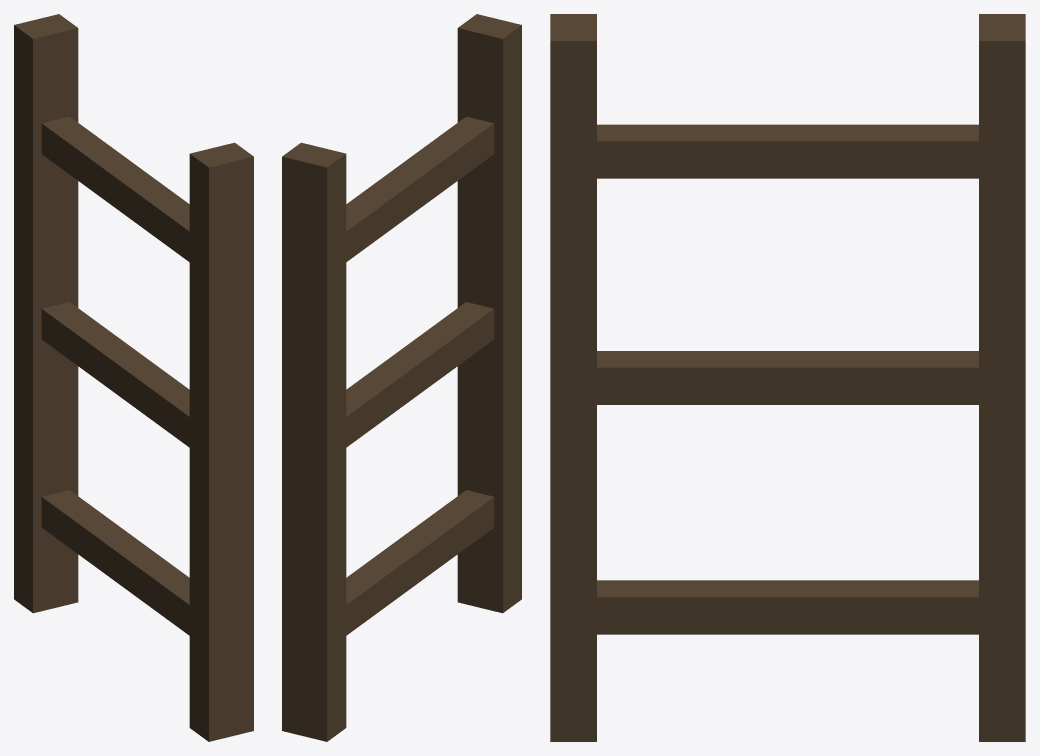
Rendered from ladder.glb.
The picture shows the model from 3 angles, left to right: view 1: azimuth 30°, elevation 25°; view 2: azimuth 150°, elevation 25°; view 3: azimuth 270°, elevation 25°; orthographic projection. The views are drawn at different scales.
Visible parts, largest first — view 1: Ladder; view 2: Ladder; view 3: Ladder.
Part boxes in pixels (left/top/right/bottom): Ladder: left=14, top=14, right=253, bottom=741; Ladder: left=282, top=14, right=521, bottom=741; Ladder: left=550, top=14, right=1025, bottom=741.
Size of the model in its own units: 0.2406 by 2.93 by 1.8.
1 material, 1 textured.
